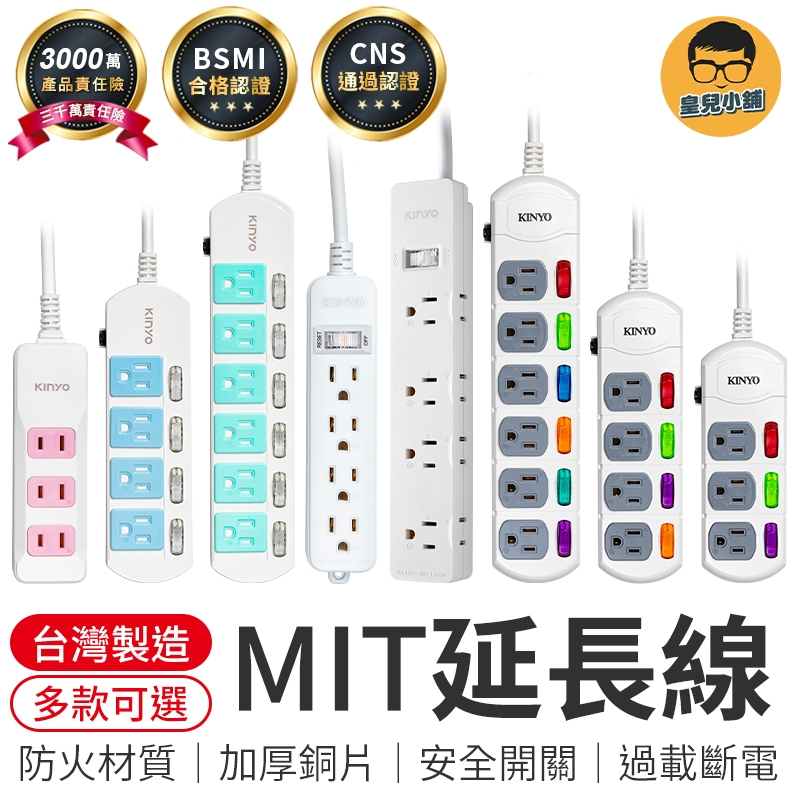socket: (483, 144, 581, 584), (206, 158, 292, 580), (388, 176, 474, 585), (591, 254, 683, 585), (101, 251, 190, 582), (694, 305, 789, 581), (306, 242, 378, 585), (11, 294, 88, 585)
